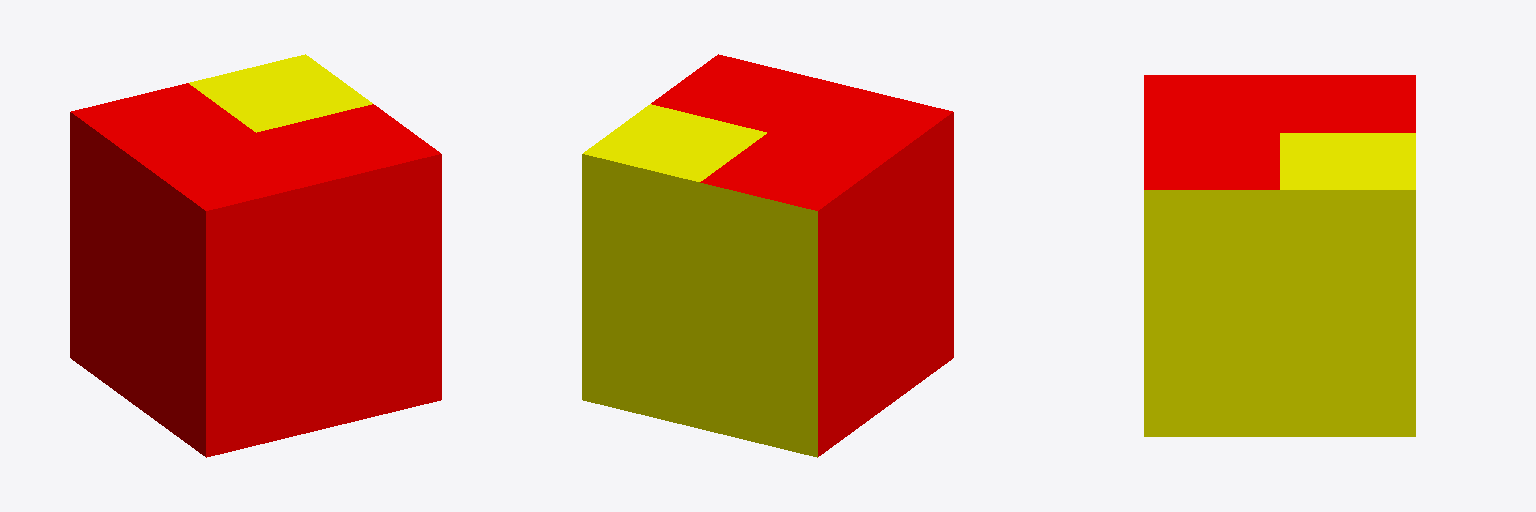
Rendered from Explosion1.obj.
The picture shows the model from 3 angles: view 1: azimuth 30°, elevation 25°; view 2: azimuth 150°, elevation 25°; view 3: azimuth 270°, elevation 25°; orthographic projection.
Visible parts, largest first — view 1: pCube1; view 2: pCube1; view 3: pCube1.
Boxes of the visible parts, <box> form: pCube1: <box>70,54,441,457</box>; pCube1: <box>582,54,953,457</box>; pCube1: <box>1144,75,1415,436</box>.
Bounding box in the file's own units: 0.1 × 0.1 × 0.1.